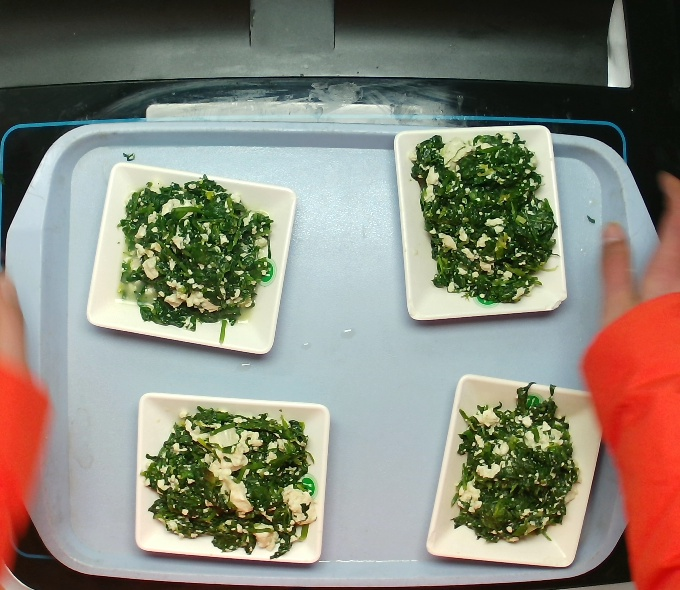wcq-QinCaiYeDouFu: (399, 125, 571, 312), (133, 399, 330, 557), (108, 169, 283, 340), (430, 380, 597, 550)
